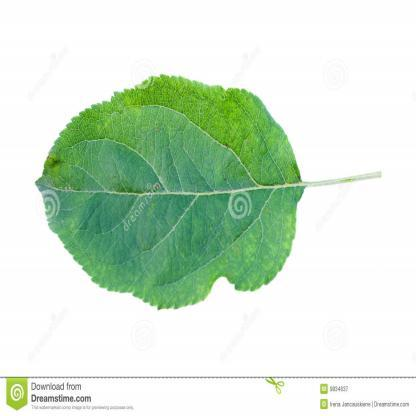Apple leaf: (32, 68, 386, 317)
